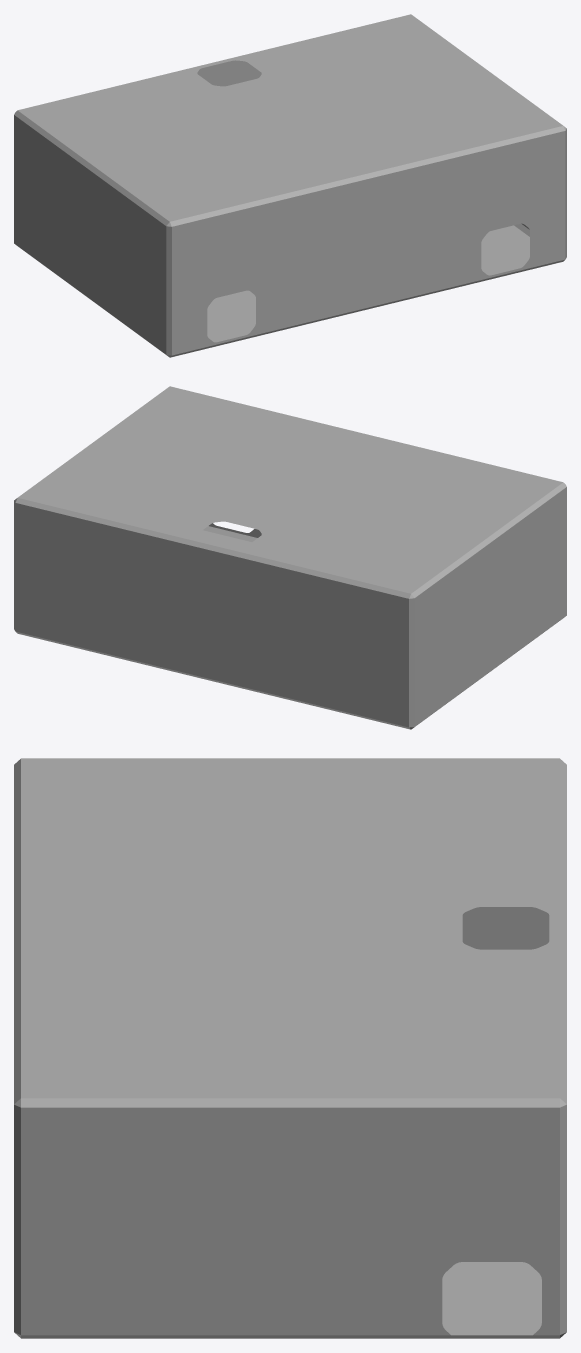
Rendered from tunulroom.fbx.
3 views of the same model, one above another, from view 1: azimuth 30°, elevation 25°; view 2: azimuth 150°, elevation 25°; view 3: azimuth 270°, elevation 25° (orthographic). The views are drawn at different scales.
Visible parts, largest first — view 1: tunul_room; view 2: tunul_room; view 3: tunul_room.
Part boxes in pixels (x1,y1,x2,y2): tunul_room: (14,14,566,357); tunul_room: (14,386,566,729); tunul_room: (14,758,566,1338).
Bounding box in the file's own units: 1075 × 348 × 726.
1 material, 1 textured.
